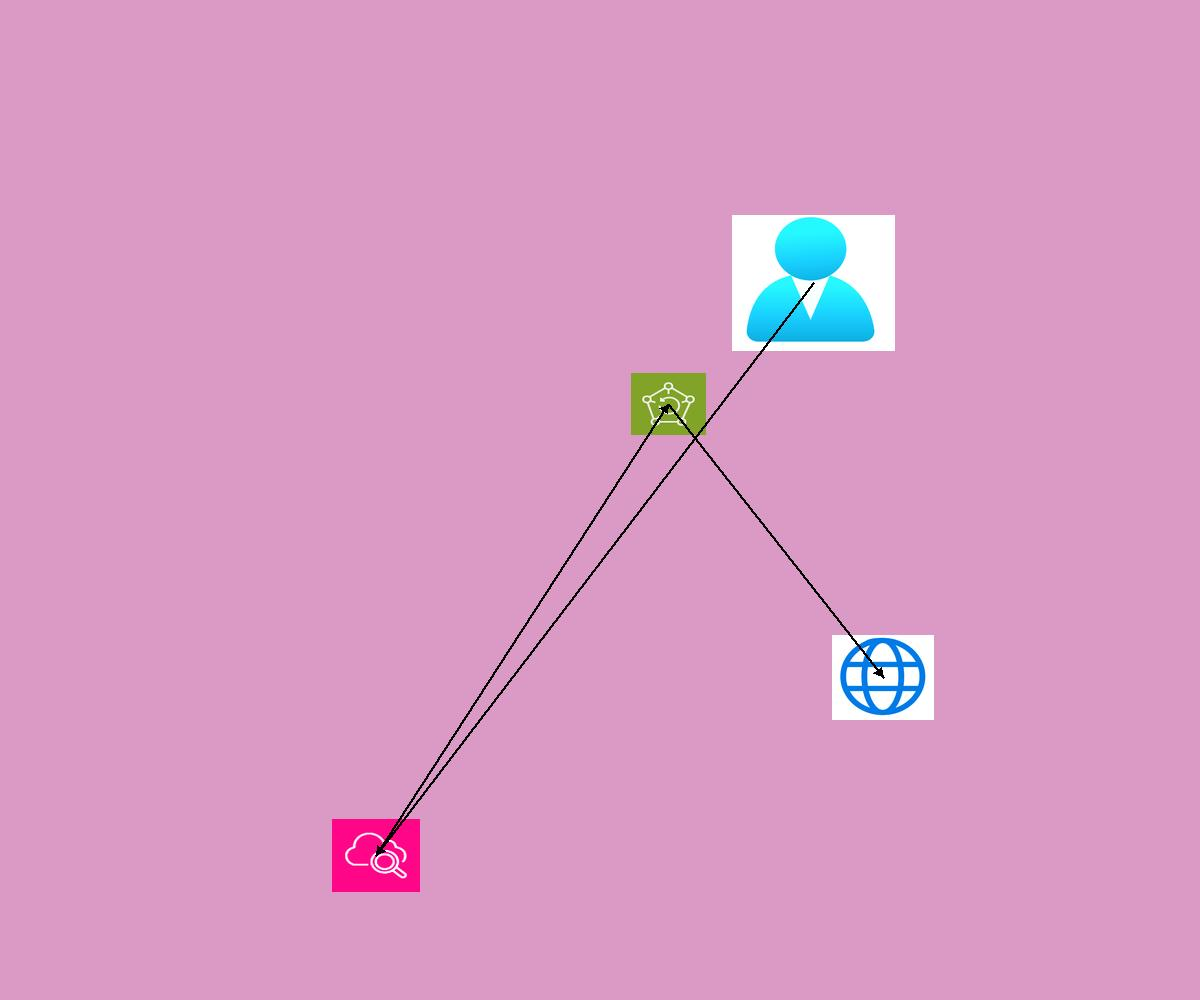AWS-Backup: (631, 373, 706, 435)
AWS-CloudWatch: (332, 819, 420, 892)
Azure_http: (832, 635, 934, 720)
Azure_users: (732, 215, 895, 351)
